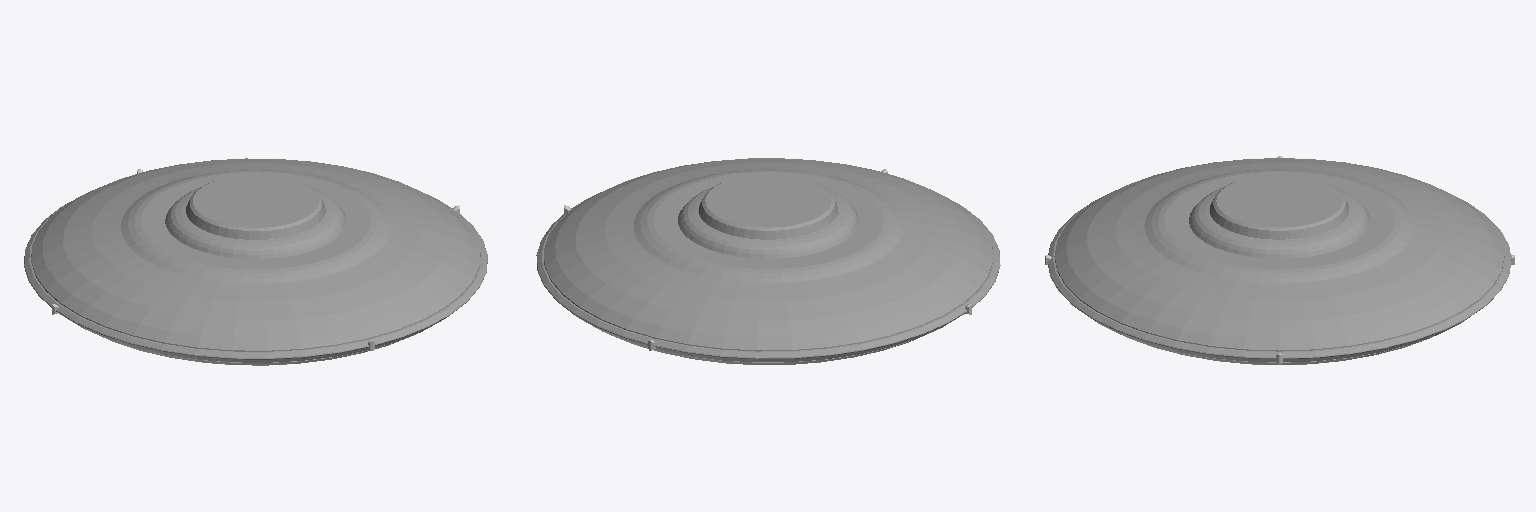
Rendered from UFO.obj.
The picture shows the model from 3 angles: view 1: azimuth 30°, elevation 25°; view 2: azimuth 150°, elevation 25°; view 3: azimuth 270°, elevation 25°; orthographic projection.
Parts seen in each view (by area): view 1: UFO; view 2: UFO; view 3: UFO.
Boxes of the visible parts, box(x1,y1,x2,y2) form: UFO: box(24, 158, 487, 365); UFO: box(536, 158, 1000, 364); UFO: box(1047, 158, 1511, 364).
Bounding box in the file's own units: 41.74 × 10.77 × 41.74.